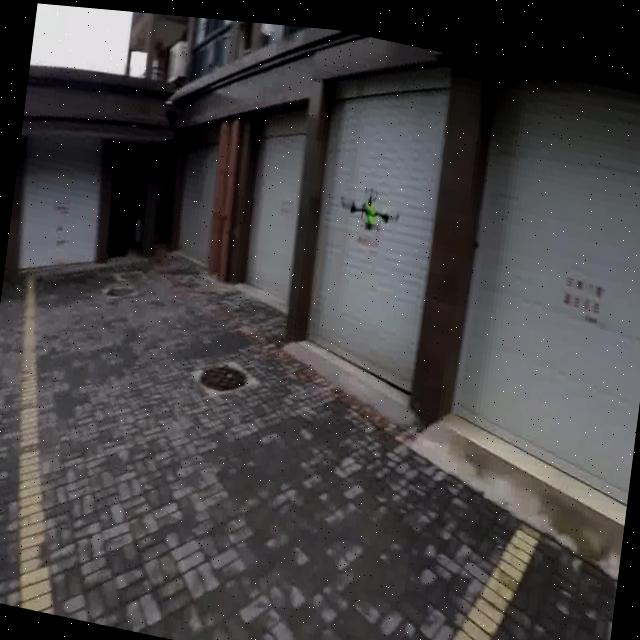drone: (338, 163, 406, 248)
